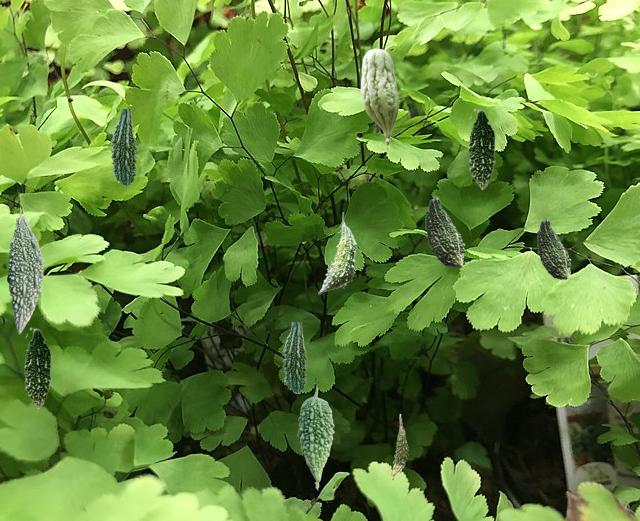ampalaya: (7, 205, 43, 333), (297, 387, 333, 489), (360, 48, 398, 144), (318, 212, 356, 293), (425, 196, 464, 266), (468, 108, 496, 189), (24, 327, 52, 408), (537, 218, 570, 278), (110, 109, 136, 185), (282, 322, 306, 392), (392, 414, 407, 479)
